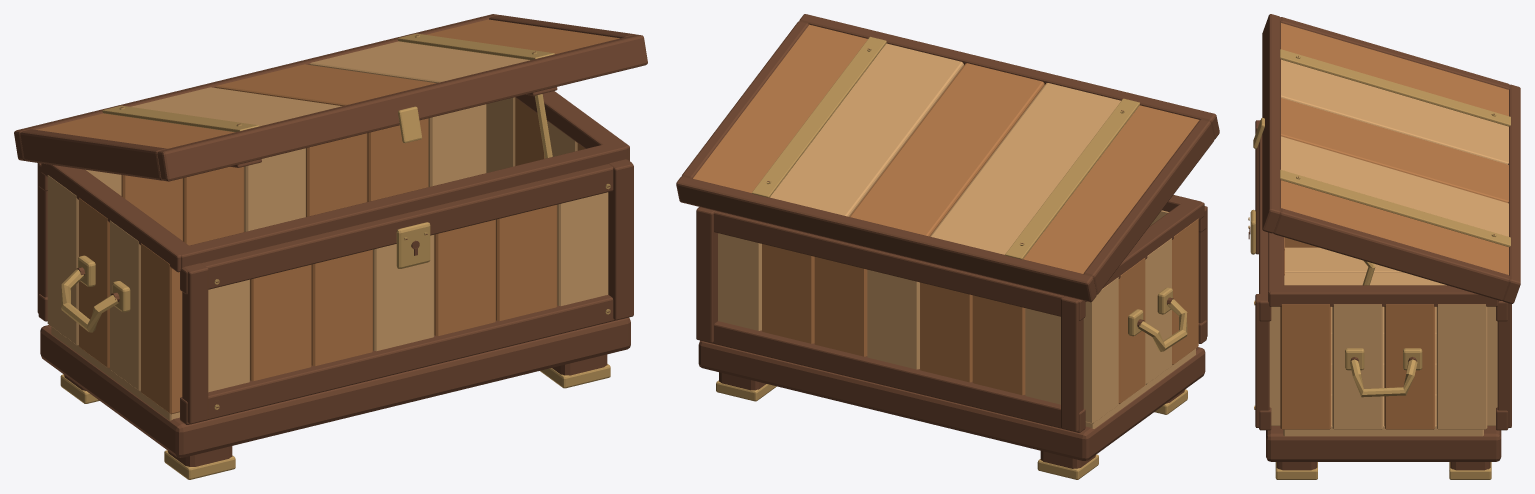
File: 009_cedar_storage_chest_v01.glb
3 renders of one model, left to right at view 1: azimuth 30°, elevation 25°; view 2: azimuth 150°, elevation 25°; view 3: azimuth 270°, elevation 25°, orthographic. The views are drawn at different scales.
Parts seen in each view (by area): view 1: Chest lower plinth, Lid long lip.001, Panel horizontal rail.002, Panel horizontal rail.003, Top long rim.001, Front cedar board 01, Front cedar board 05, Front cedar board 04, Front cedar board 02, Side cedar board.003, Front cedar board 03, Front cedar board 06 (+34 smaller); view 2: Lid cedar plank 02, Lid cedar plank 03, Chest lower plinth, Lid cedar plank 01, Lid long lip, Lid cedar plank 00, Lid cedar plank 04, Panel horizontal rail, Panel horizontal rail.001, Lid short lip, Rear cedar board 01, Rear cedar board 04 (+21 smaller); view 3: Lid cedar plank 02, Lid cedar plank 01, Lid cedar plank 03, Lid short lip.001, Side cedar board.007, Side cedar board.004, Lid cedar plank 04, Chest lower plinth, Lid cedar plank 00, Side cedar board.005, Side cedar board.006, Top end rim.001 (+22 smaller).
Boxes of the visible parts, x1=… form: Chest lower plinth: x1=40, y1=317, x2=630, y2=457; Lid long lip.001: x1=157, y1=34, x2=647, y2=181; Panel horizontal rail.002: x1=180, y1=294, x2=615, y2=424; Panel horizontal rail.003: x1=180, y1=159, x2=632, y2=294; Top long rim.001: x1=174, y1=141, x2=627, y2=268; Front cedar board 01: x1=250, y1=264, x2=311, y2=381; Front cedar board 05: x1=496, y1=205, x2=557, y2=321; Front cedar board 04: x1=434, y1=219, x2=495, y2=335; Front cedar board 02: x1=311, y1=249, x2=372, y2=366; Side cedar board.003: x1=141, y1=243, x2=182, y2=414; Front cedar board 03: x1=373, y1=235, x2=434, y2=351; Front cedar board 06: x1=557, y1=192, x2=608, y2=306; Lid cedar plank 02: x1=849, y1=63, x2=1044, y2=236; Lid cedar plank 03: x1=770, y1=43, x2=963, y2=216; Chest lower plinth: x1=698, y1=340, x2=1205, y2=460; Lid cedar plank 01: x1=930, y1=83, x2=1120, y2=254; Lid long lip: x1=676, y1=176, x2=1096, y2=302; Lid cedar plank 00: x1=1023, y1=105, x2=1199, y2=273; Lid cedar plank 04: x1=693, y1=24, x2=867, y2=192; Panel horizontal rail: x1=712, y1=321, x2=1085, y2=432; Panel horizontal rail.001: x1=697, y1=207, x2=1085, y2=320; Lid short lip: x1=1083, y1=119, x2=1214, y2=294; Rear cedar board 01: x1=972, y1=295, x2=1025, y2=395; Rear cedar board 04: x1=814, y1=257, x2=867, y2=356; Lid cedar plank 02: x1=1281, y1=98, x2=1508, y2=202; Lid cedar plank 01: x1=1281, y1=59, x2=1508, y2=164; Lid cedar plank 03: x1=1281, y1=136, x2=1508, y2=236; Lid short lip.001: x1=1273, y1=208, x2=1509, y2=300; Side cedar board.007: x1=1280, y1=304, x2=1331, y2=429; Side cedar board.004: x1=1436, y1=304, x2=1487, y2=429; Lid cedar plank 04: x1=1281, y1=180, x2=1508, y2=274; Chest lower plinth: x1=1266, y1=426, x2=1501, y2=461; Lid cedar plank 00: x1=1281, y1=23, x2=1508, y2=116; Side cedar board.005: x1=1384, y1=304, x2=1435, y2=429; Side cedar board.006: x1=1332, y1=304, x2=1383, y2=429; Top end rim.001: x1=1269, y1=285, x2=1498, y2=306.
Size of the model in its own units: 1.31 by 0.8096 by 0.7068.
